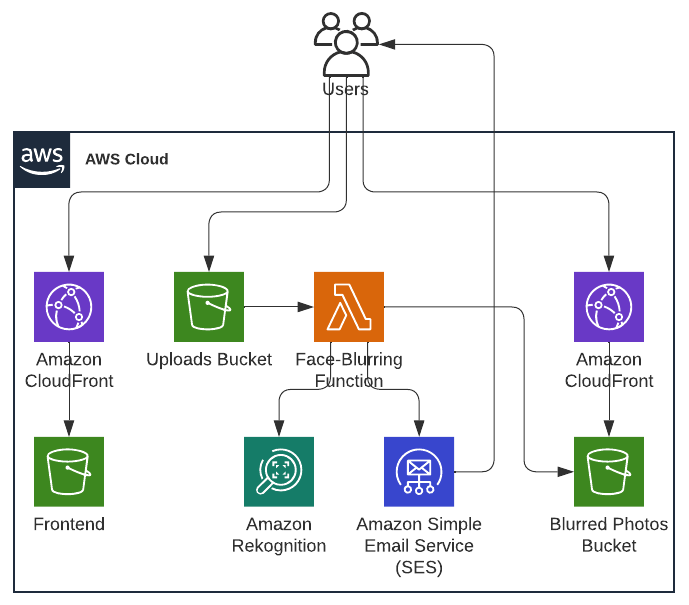cloudfront: (576, 273, 644, 342), (35, 274, 103, 342)
lambda: (316, 274, 383, 342)
rekognition: (245, 437, 312, 506)
s3: (35, 437, 103, 507), (575, 436, 643, 506), (175, 274, 242, 342)
ses: (384, 439, 454, 506)
